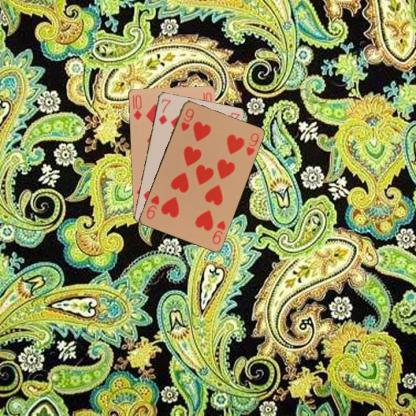10d: (130, 92, 143, 121)
7d: (156, 96, 172, 125)
9h: (210, 217, 226, 245), (178, 106, 195, 132)
